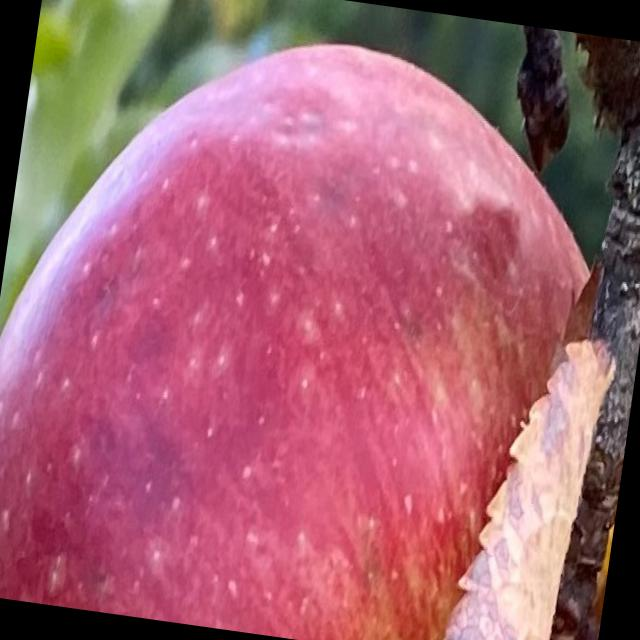Apples: (0, 2, 619, 639)
